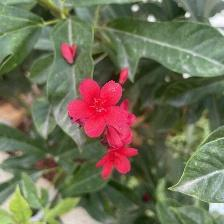jatropha: (71, 79, 132, 139), (95, 132, 141, 180)
